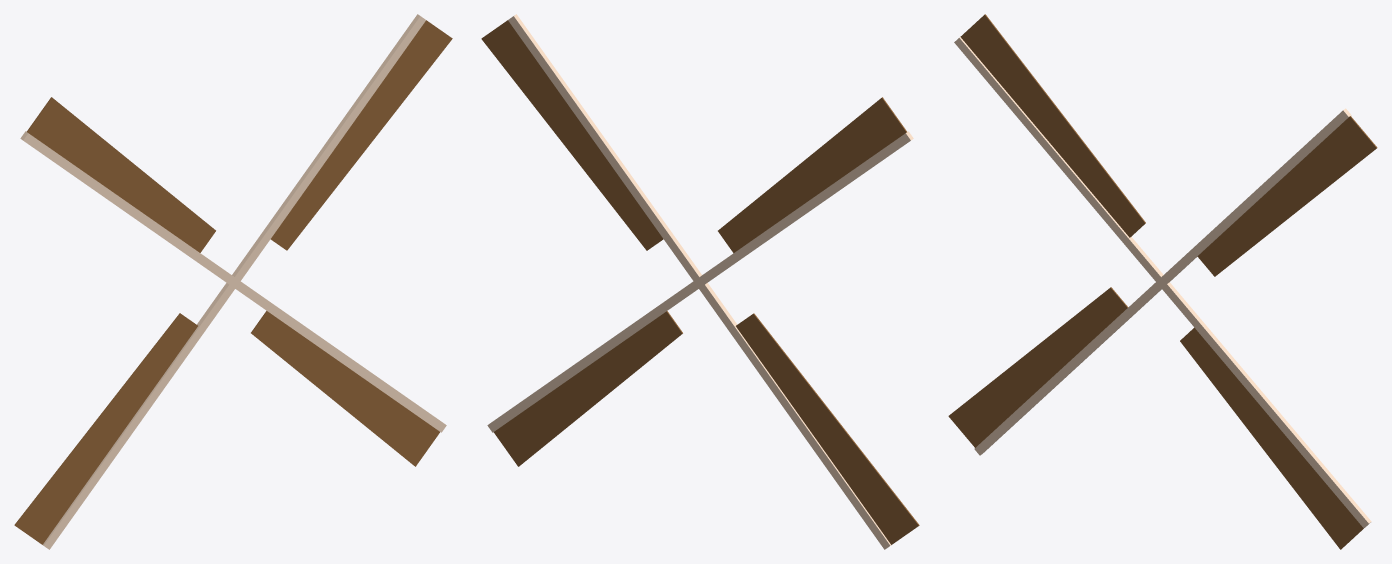
File: Building_Windmill_Blades_Sails_01.fbx
3 renders of one model, left to right at view 1: azimuth 30°, elevation 25°; view 2: azimuth 150°, elevation 25°; view 3: azimuth 330°, elevation 25°, orthographic. The views are drawn at different scales.
Parts seen in each view (by area): view 1: Building_Windmill_Blades_Sails_01; view 2: Building_Windmill_Blades_Sails_01; view 3: Building_Windmill_Blades_Sails_01.
Part boxes in pixels (x1,y1,x2,y2): Building_Windmill_Blades_Sails_01: (14,14,452,549); Building_Windmill_Blades_Sails_01: (481,14,919,549); Building_Windmill_Blades_Sails_01: (948,14,1377,549).
Size of the model in its own units: 12583 by 12583 by 140.
